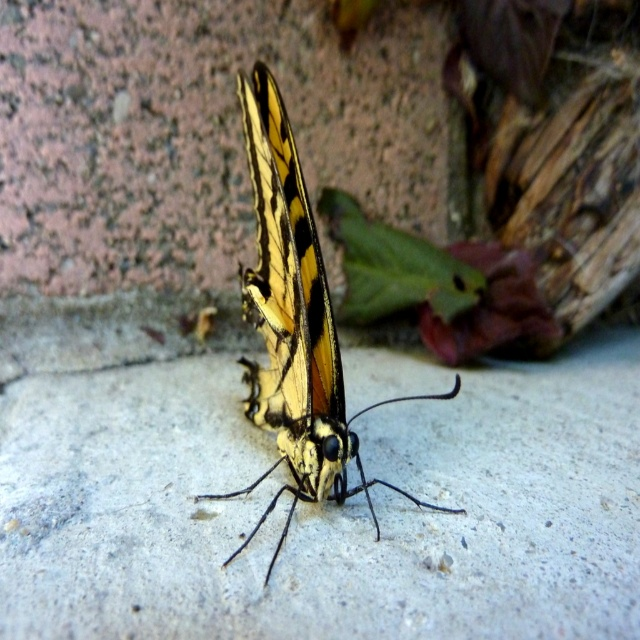Butterfly: (185, 59, 468, 590)
